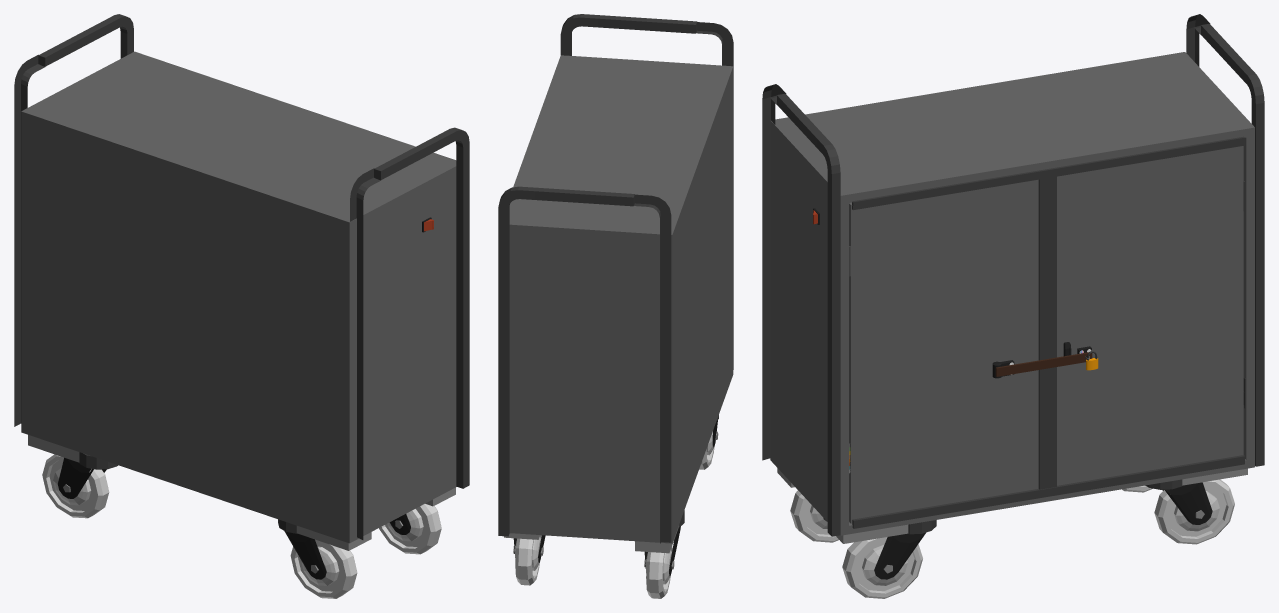
File: CarroNets_LuisE_47205114.fbx
3 renders of one model, left to right at view 1: azimuth 30°, elevation 25°; view 2: azimuth 150°, elevation 25°; view 3: azimuth 270°, elevation 25°, orthographic. The views are drawn at different scales.
Visible parts, largest first — view 1: Cube; view 2: Cube; view 3: Cube.
Boxes of the visible parts, x1,y1,x2,y2 form: Cube: [14, 14, 469, 598]; Cube: [498, 14, 733, 598]; Cube: [762, 14, 1264, 598].
Bounding box in the file's own units: 74.04 × 109 × 107.
1 material, 1 textured.
